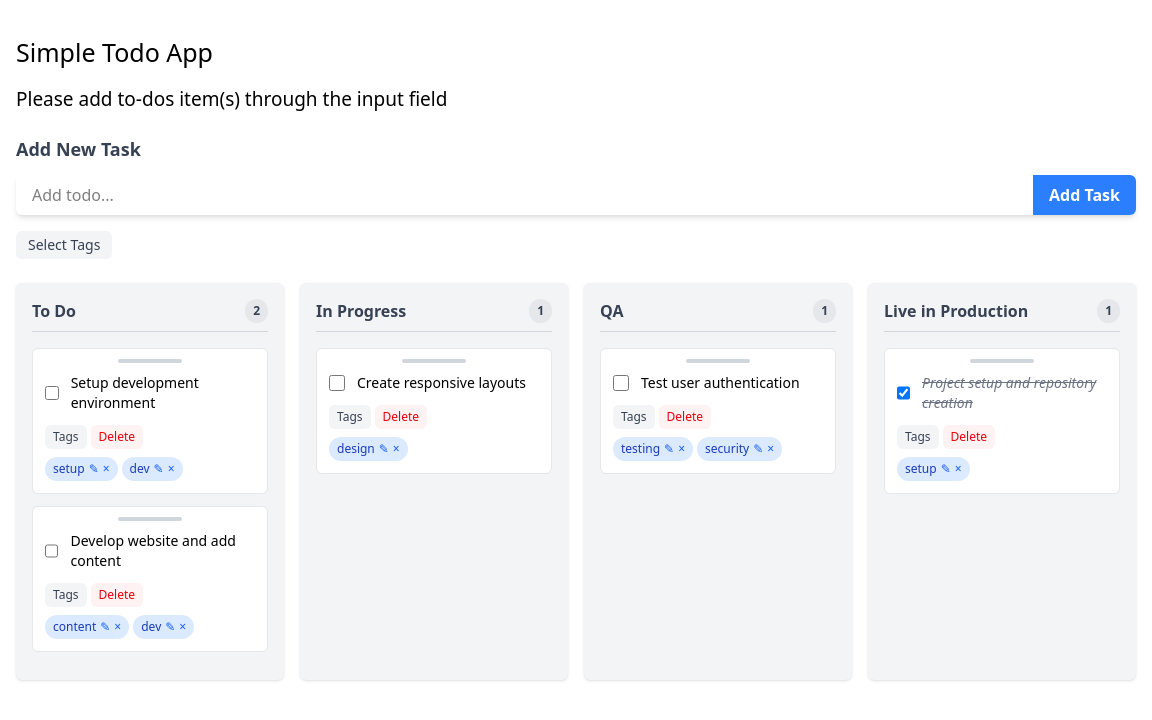
Test case: Todo Kanban Board › should add a new task to the To Do column
The image size is (1152, 720).
Type "Test New Task" into the field with placeholder "Add todo..." at (525, 195), box [16,175,1033,215]
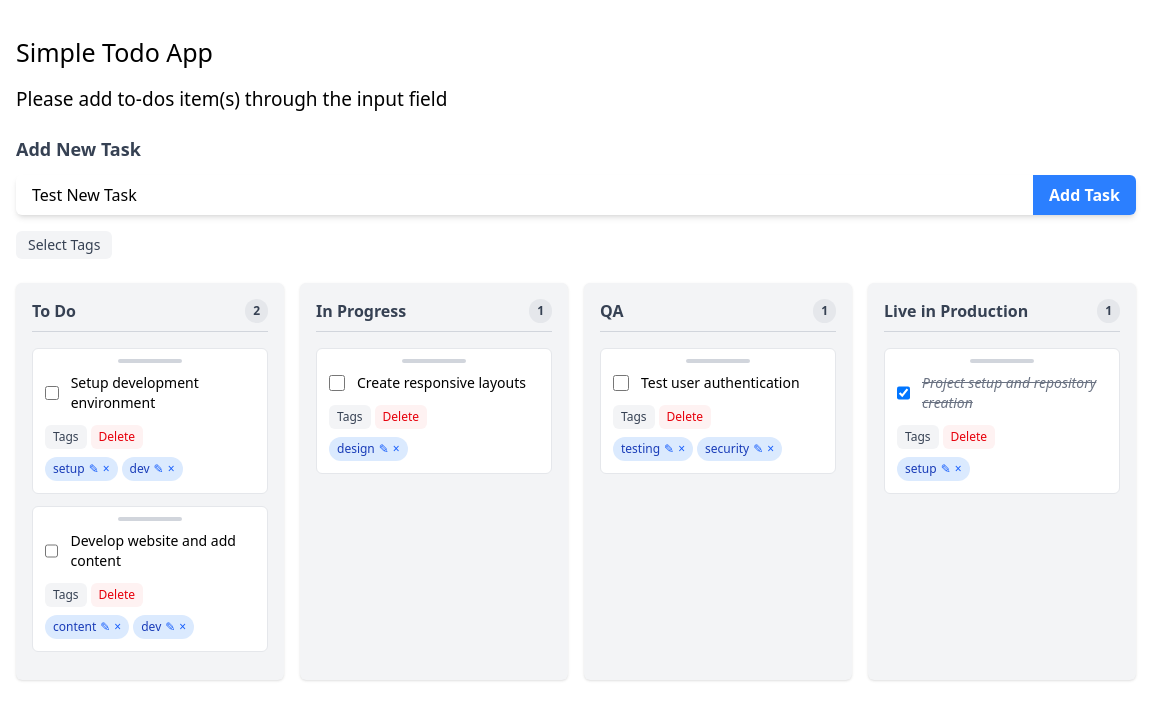
Click the button "Add Task" at (1085, 195), box [1033,175,1136,215]
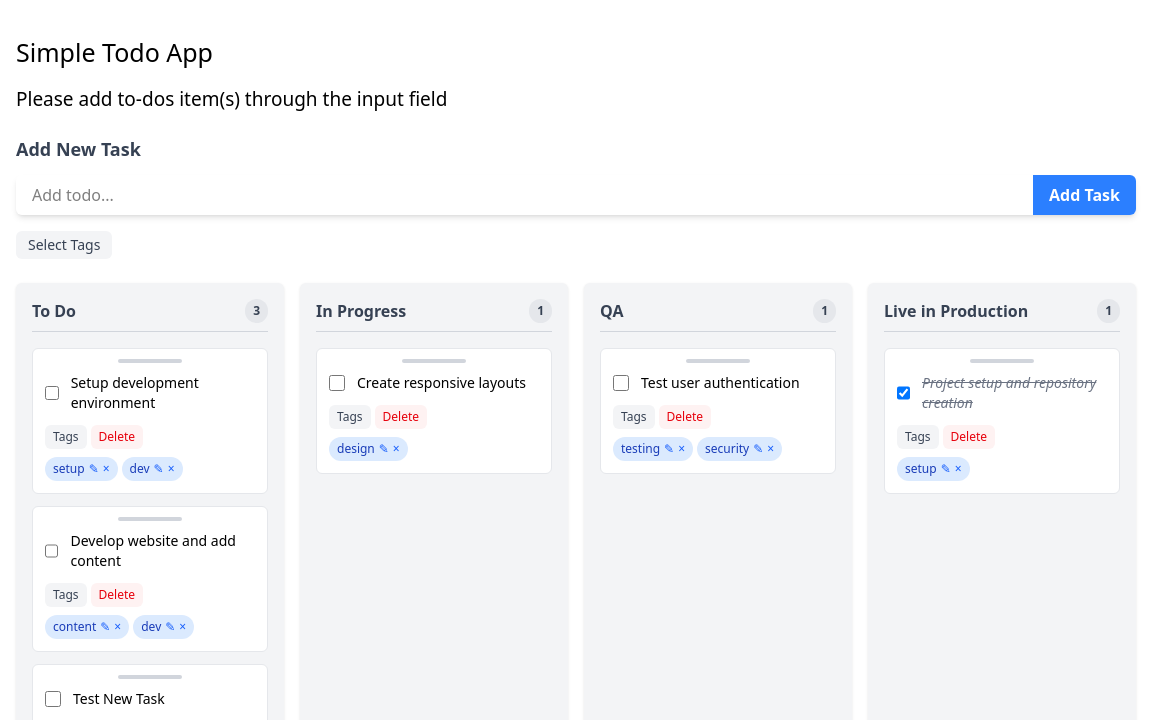
Check: the text "Test New Task" is shown, box [73,689,165,708]
